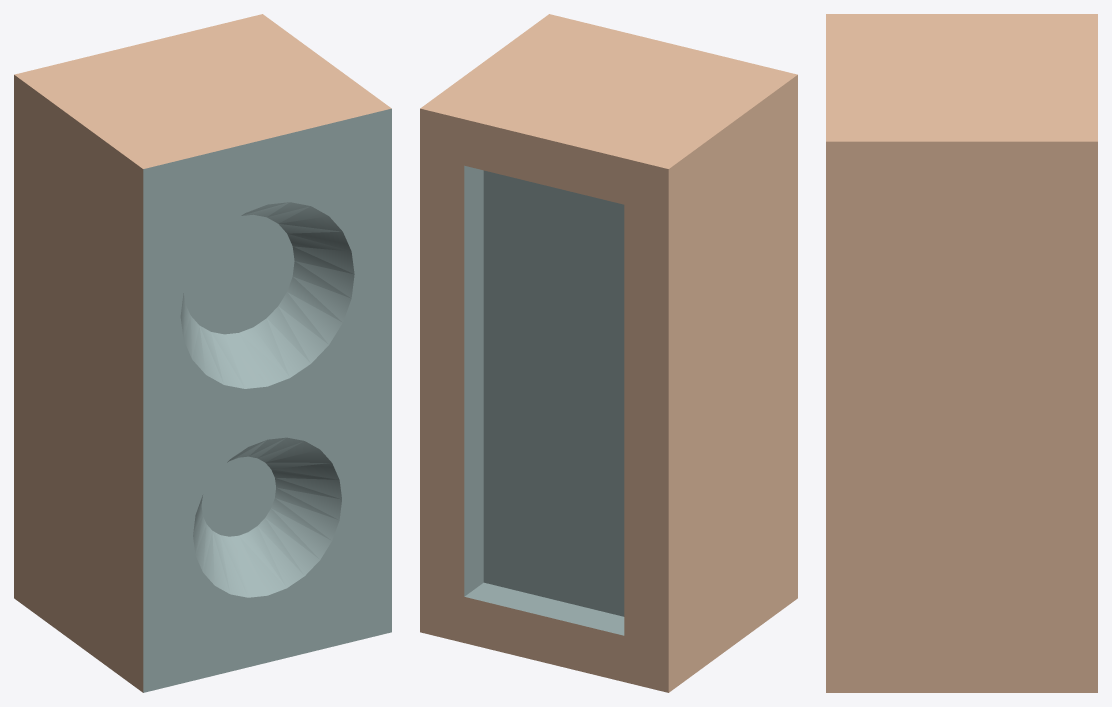
The model's file is speaker_small.fbx.
3 renders of one model, left to right at view 1: azimuth 30°, elevation 25°; view 2: azimuth 150°, elevation 25°; view 3: azimuth 270°, elevation 25°, orthographic. The views are drawn at different scales.
Visible parts, largest first — view 1: speaker_small; view 2: speaker_small; view 3: speaker_small.
Part boxes in pixels (box(x1,y1,x2,y2)): speaker_small: box(14, 14, 391, 692); speaker_small: box(420, 14, 797, 692); speaker_small: box(826, 14, 1097, 692).
Size of the model in its own units: 0.1738 by 0.35 by 0.1565.
